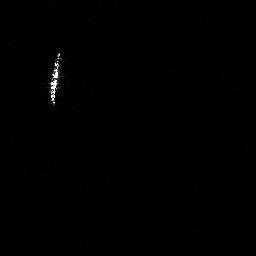ship: (42, 52, 73, 111)
